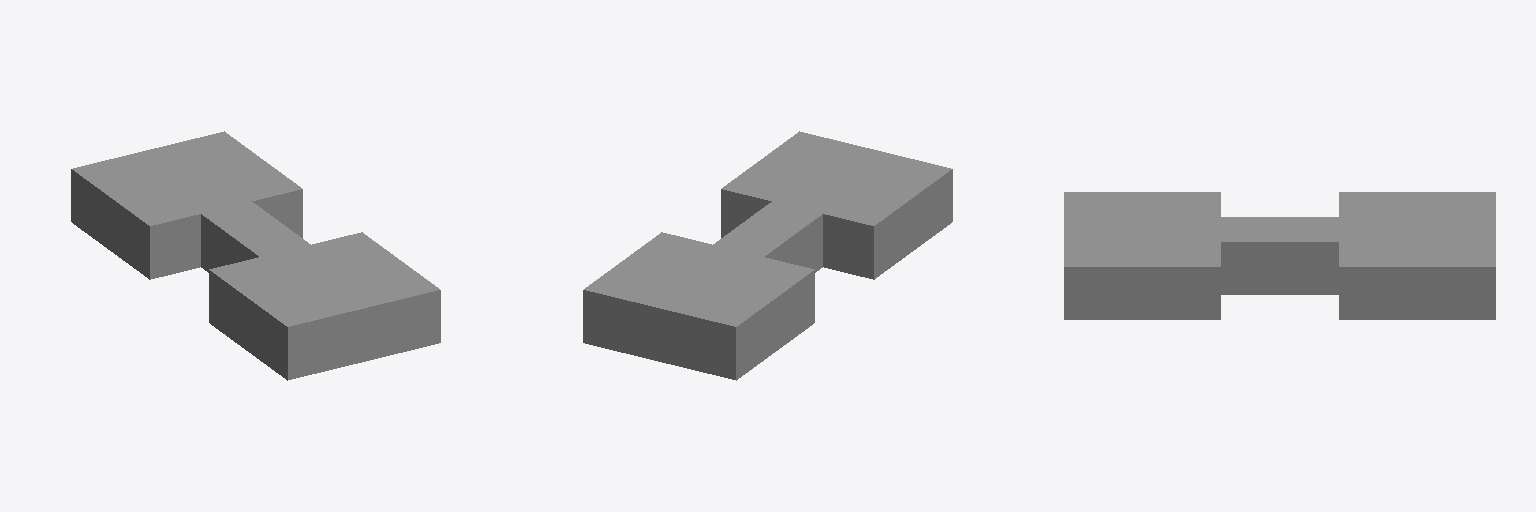
Rendered from Room.obj.
3 views of the same model, side by side, from view 1: azimuth 30°, elevation 25°; view 2: azimuth 150°, elevation 25°; view 3: azimuth 270°, elevation 25° (orthographic).
Visible parts, largest first — view 1: Plane.001; view 2: Plane.001; view 3: Plane.001.
Part boxes in pixels (left/top/right/bottom): Plane.001: left=71, top=131, right=440, bottom=380; Plane.001: left=583, top=131, right=952, bottom=380; Plane.001: left=1064, top=192, right=1495, bottom=319.
Bounding box in the file's own units: 9 × 3 × 22.